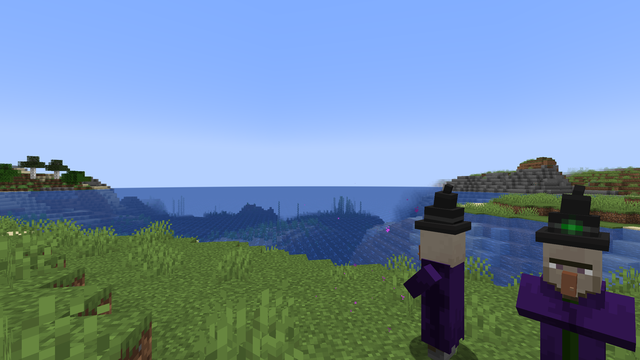sorcieres: (526, 230, 624, 358), (413, 220, 474, 358)
